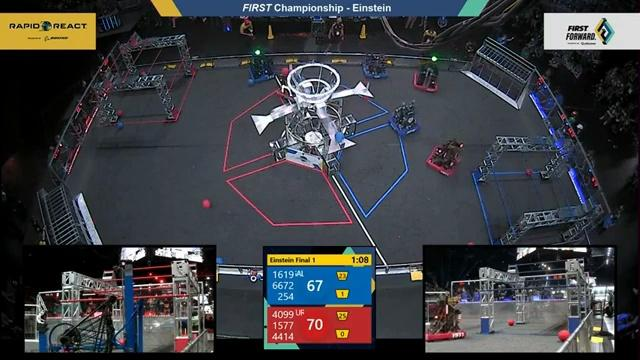robot: (425, 140, 462, 178), (388, 102, 421, 137), (413, 56, 438, 93), (248, 50, 274, 83), (362, 53, 388, 80)
